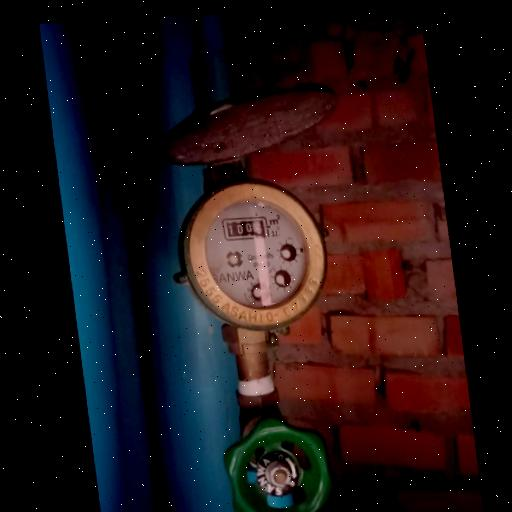0: (244, 219, 257, 236), (233, 220, 246, 236)
1: (225, 220, 237, 237)
border_water_meter_number: (219, 211, 271, 245)
